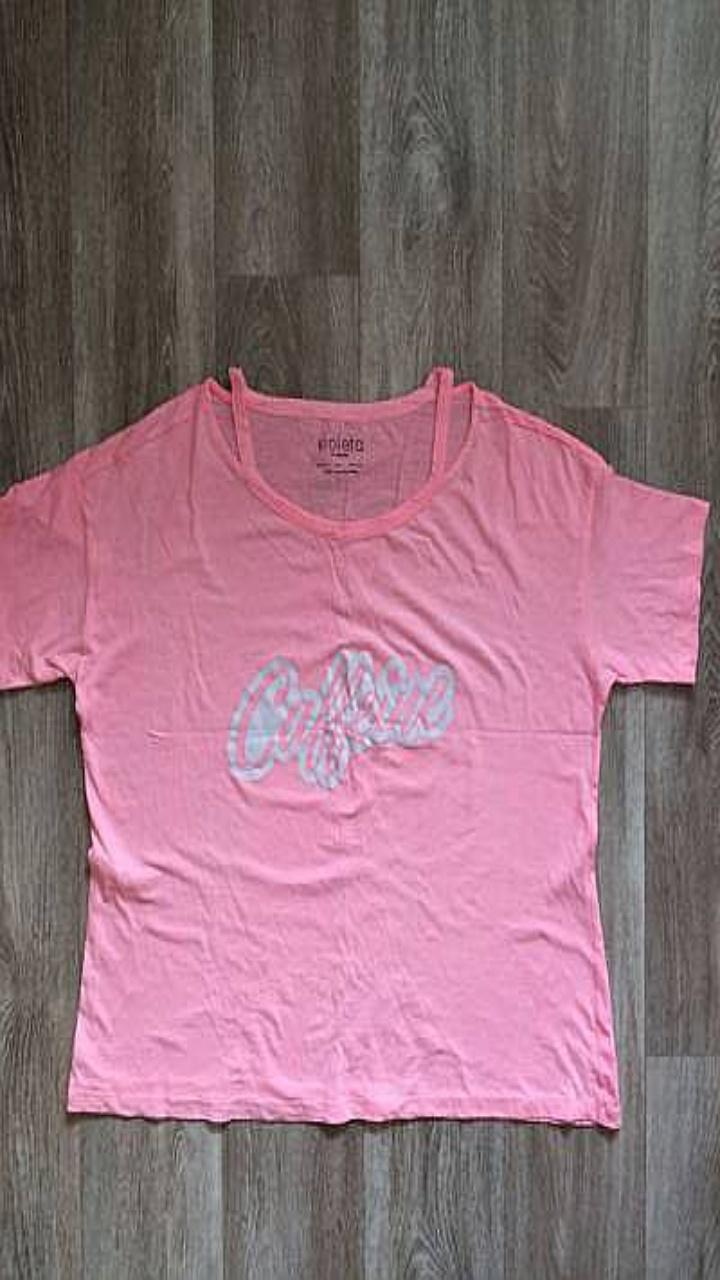T-Shirt: (0, 366, 709, 1128)
